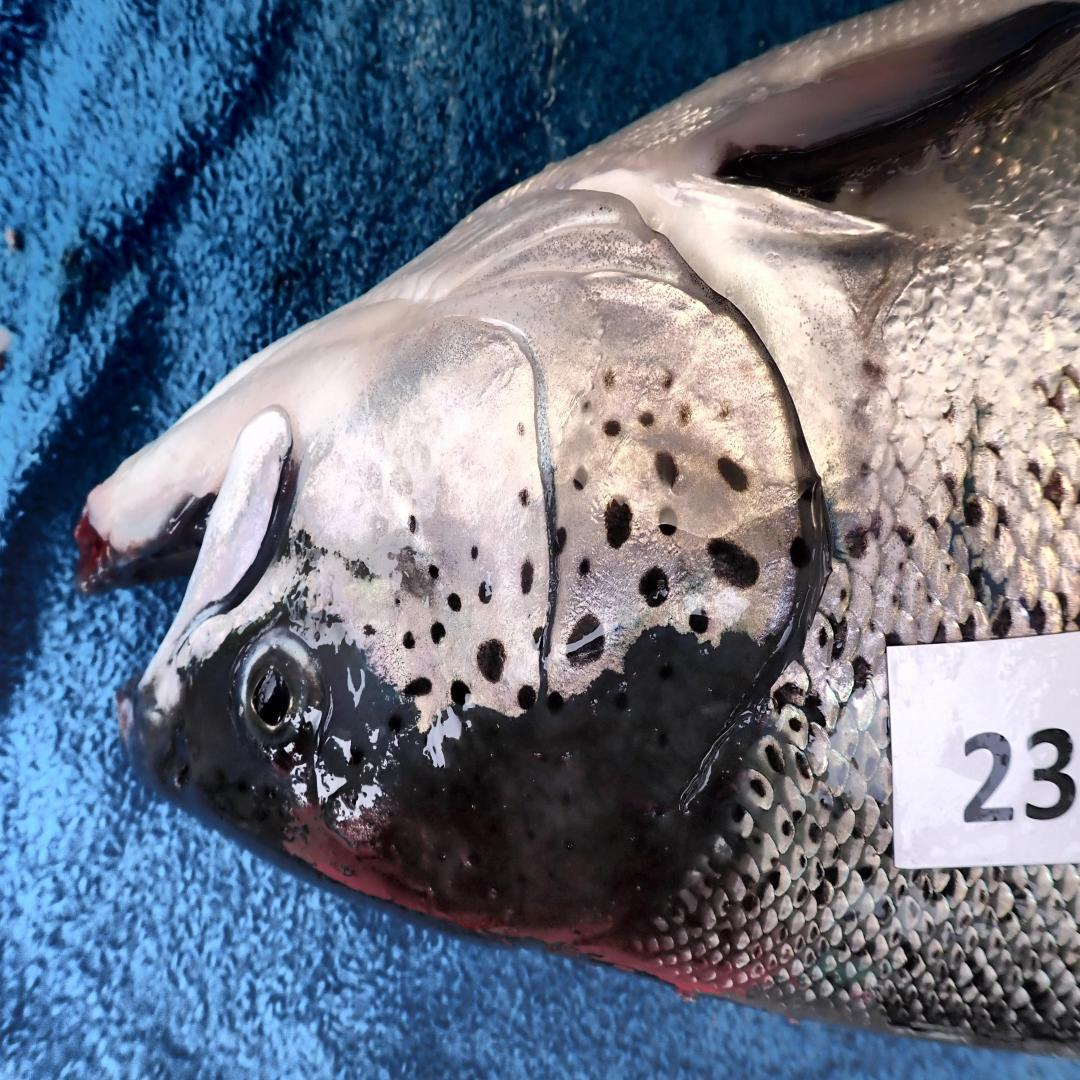spot: (707, 537, 759, 588), (565, 613, 605, 664), (605, 501, 633, 548), (477, 638, 506, 683), (639, 565, 669, 608), (717, 456, 749, 492), (656, 453, 679, 487), (789, 537, 810, 568), (715, 399, 738, 425), (658, 506, 677, 537), (403, 678, 432, 698), (688, 610, 709, 636), (517, 686, 536, 709), (521, 560, 534, 593), (451, 681, 468, 706), (547, 691, 564, 713), (555, 526, 567, 554), (574, 467, 589, 489), (430, 622, 445, 644), (447, 593, 462, 613), (679, 402, 692, 425), (603, 419, 620, 436), (479, 582, 491, 605), (578, 557, 591, 577), (603, 368, 616, 388), (639, 411, 654, 428), (403, 633, 416, 650), (534, 627, 544, 647), (662, 371, 673, 389), (519, 489, 529, 506), (428, 565, 439, 579), (409, 515, 418, 532), (363, 624, 375, 636), (517, 422, 527, 436), (470, 546, 479, 560), (582, 402, 591, 411), (394, 596, 401, 606), (532, 422, 534, 433)
